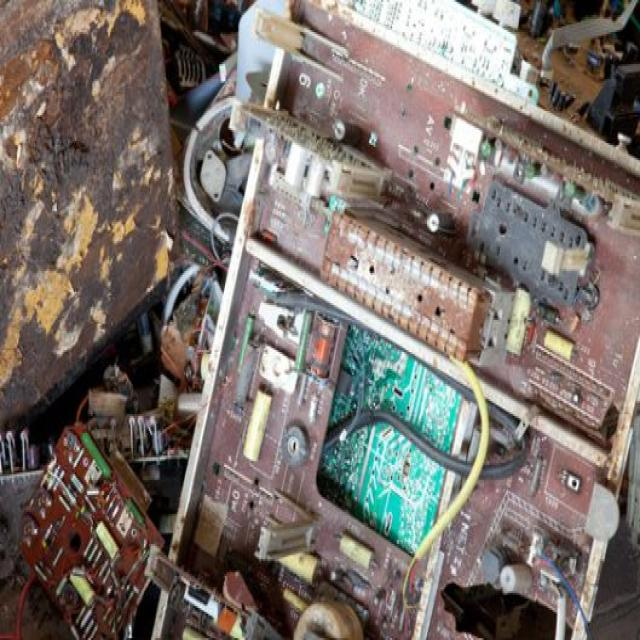electronic: (171, 73, 489, 640)
